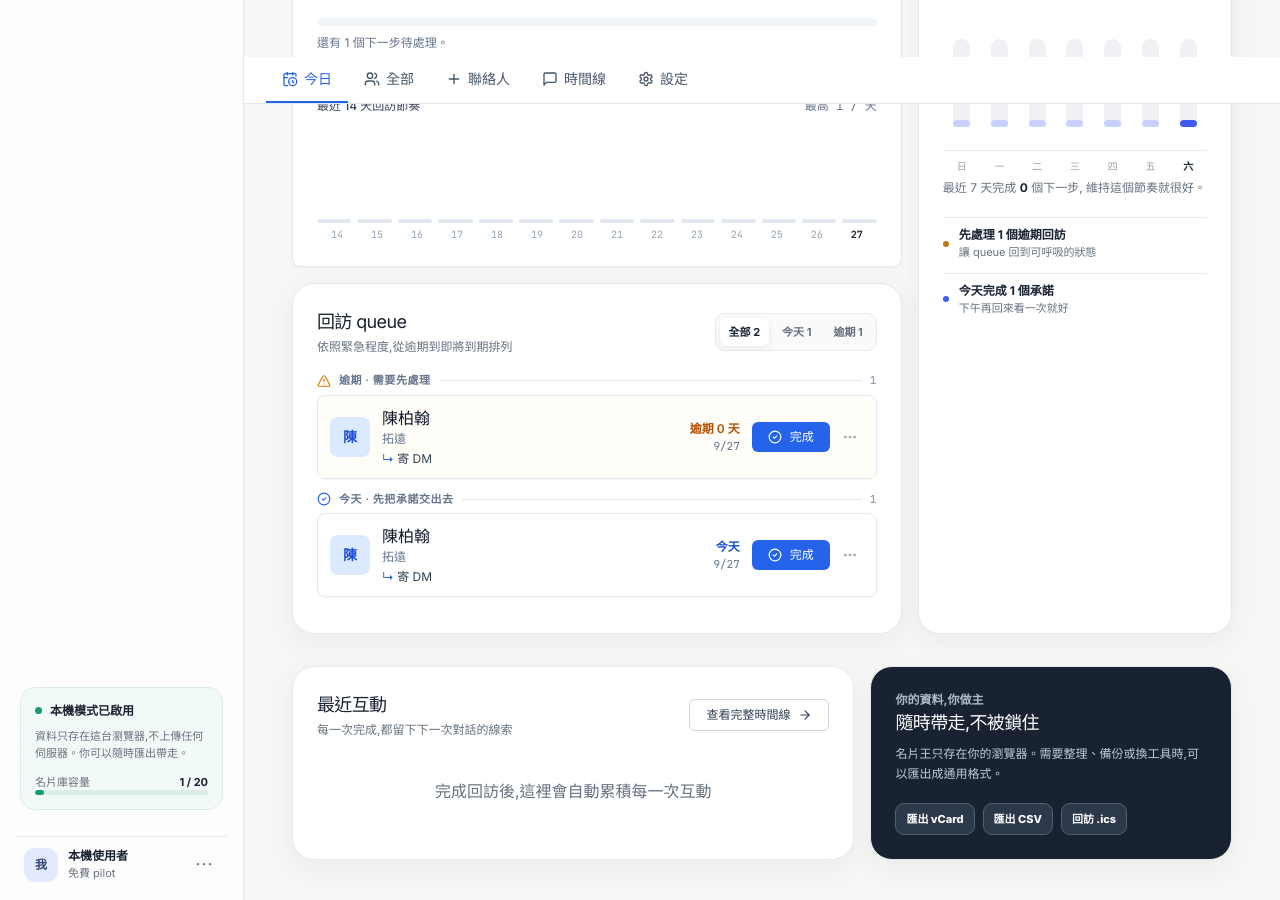
Test: ContactDetailDrawer › 點今日 queue 項目也會開 drawer
The width and height of the screenshot is (1280, 900).
(page scrolled)
# 整列可 click → 內部 button 在內
Click the 2nd button named "查看": (850, 555) [836,541,864,569]
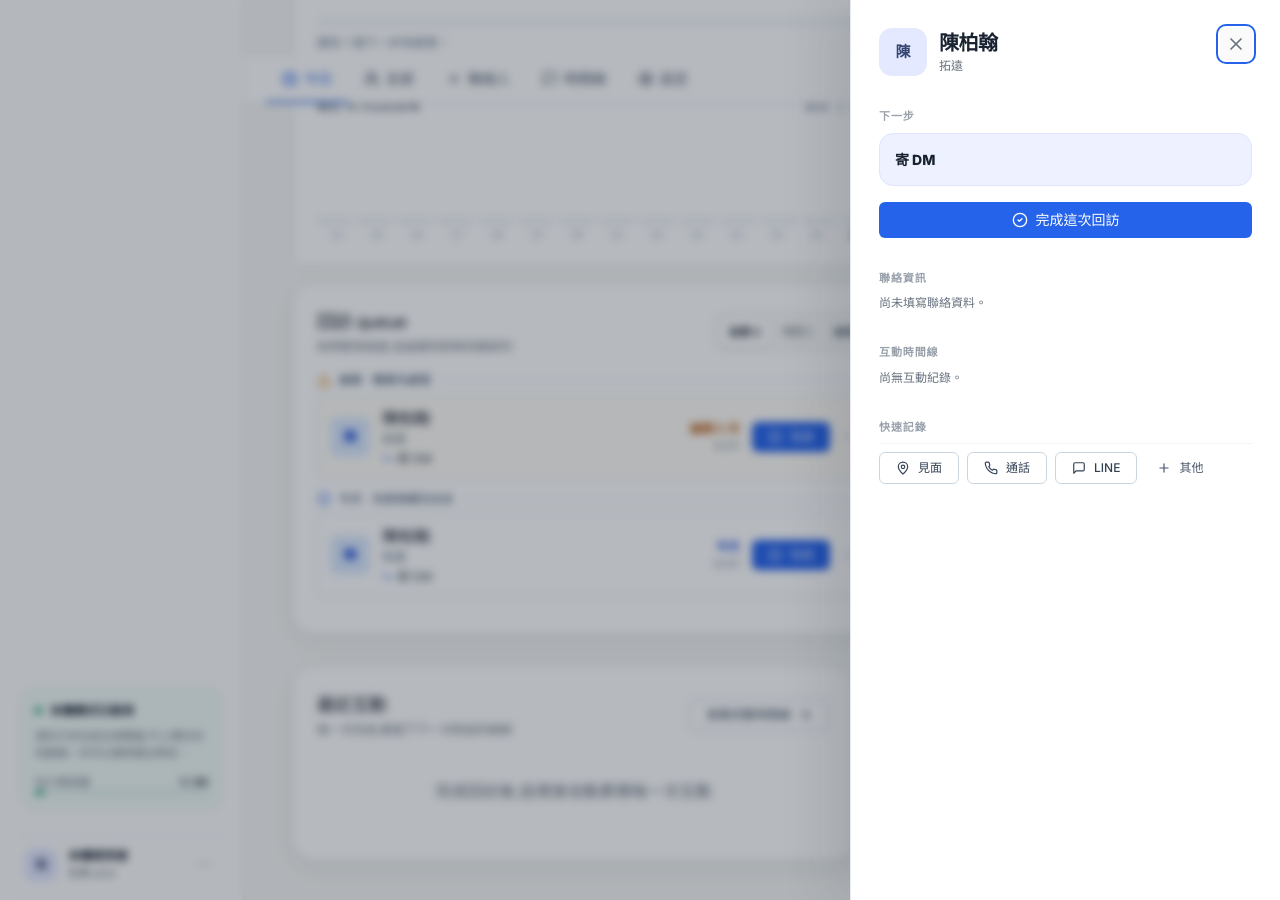
Expected: the dialog "陳柏翰" is shown
